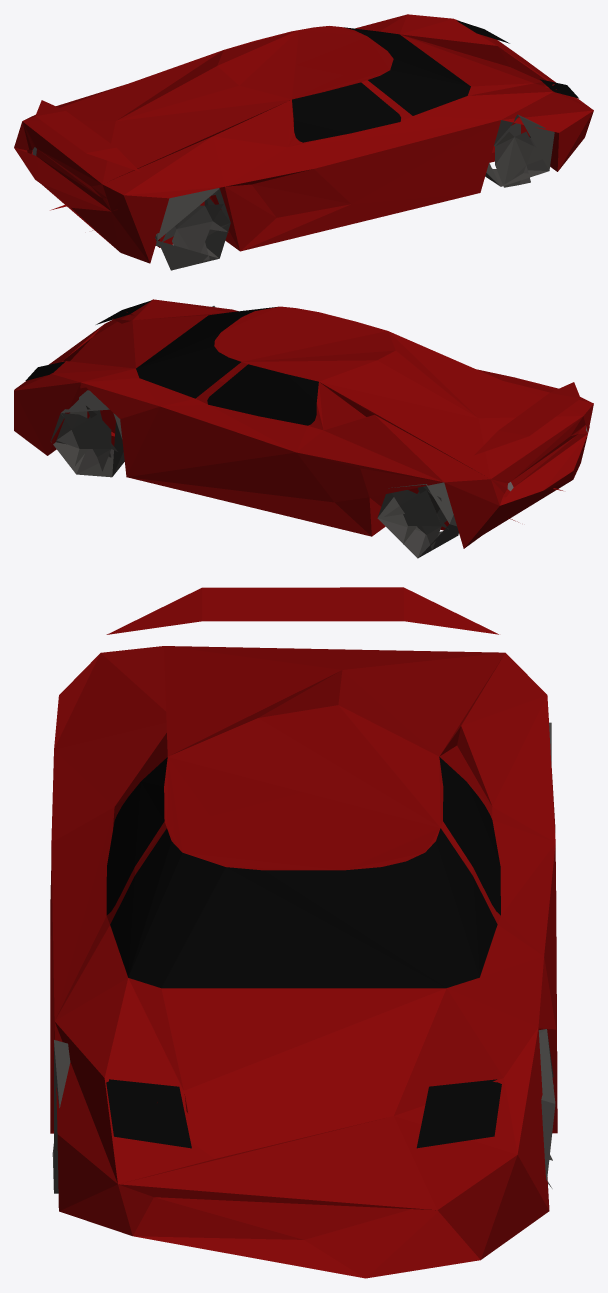
The model's file is pc-sport.lod2.glb.
3 renders of one model, top to bottom at view 1: azimuth 30°, elevation 25°; view 2: azimuth 150°, elevation 25°; view 3: azimuth 270°, elevation 25°, orthographic. The views are drawn at different scales.
Parts seen in each view (by area): view 1: Wheel_H_Wheel_0; view 2: Wheel_H_Wheel_0; view 3: Wheel_H_Wheel_0.
Boxes of the visible parts, x1=… form: Wheel_H_Wheel_0: x1=14, y1=14, x2=593, y2=270; Wheel_H_Wheel_0: x1=14, y1=299, x2=593, y2=558; Wheel_H_Wheel_0: x1=50, y1=587, x2=557, y2=1278.
Bounding box in the file's own units: 3.88 × 0.9817 × 1.68.
